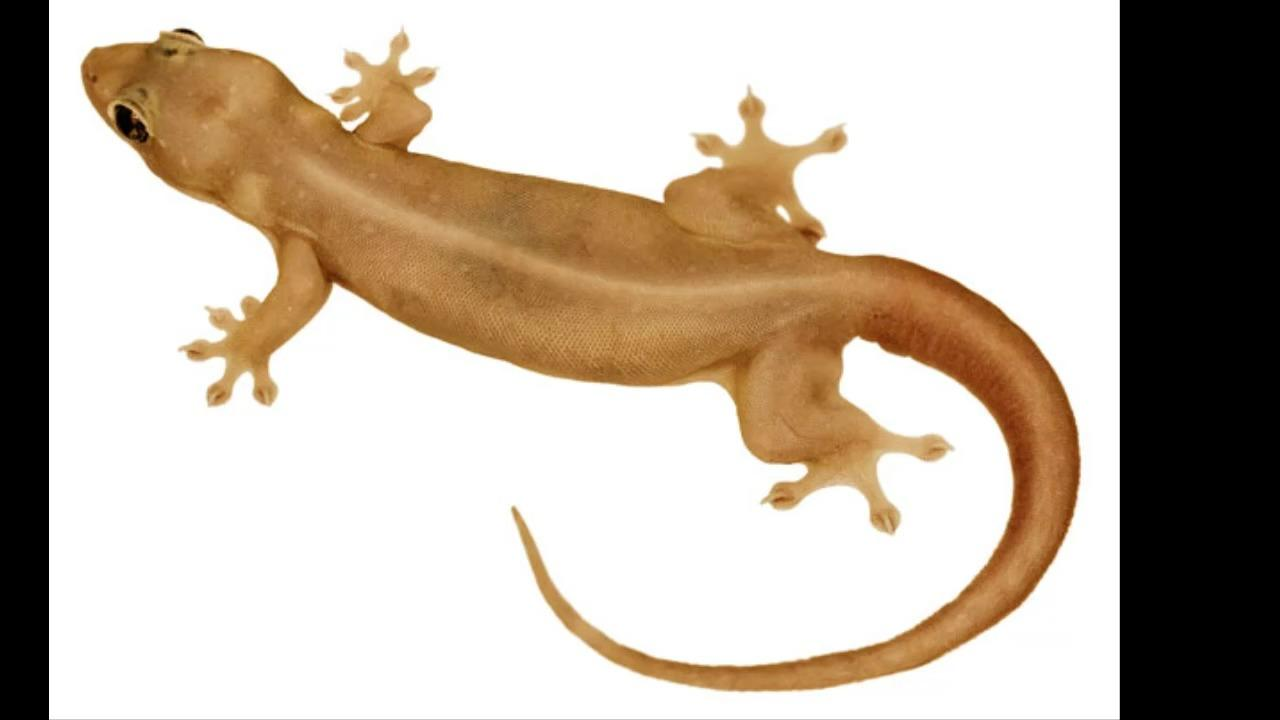lizard: (68, 12, 1085, 694)
